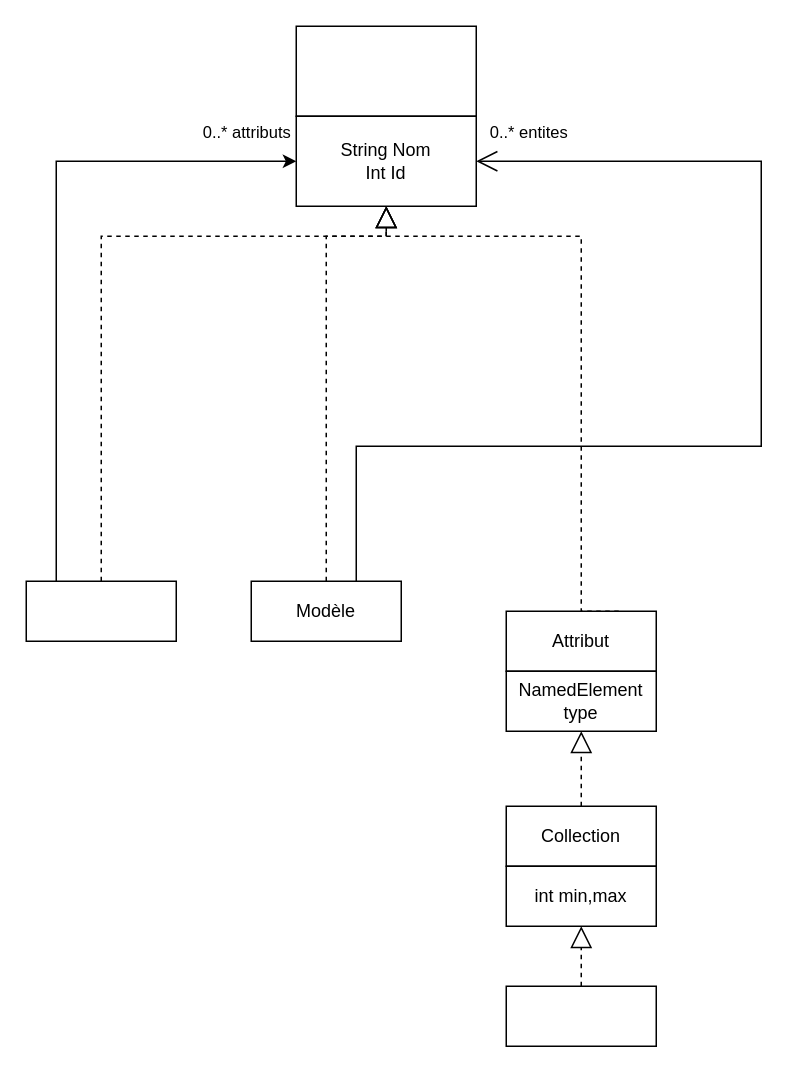
This 809x1073 diagram has some shape labels left out. The shapes that lost their labels are listed below. From the top down, each one's box as (x1, y1, x2, y2) in pixels, then its label:
(295, 25, 476, 116): <<abstract>> NamedElement
(25, 580, 176, 641): Entité
(505, 985, 656, 1046): StaticArray
